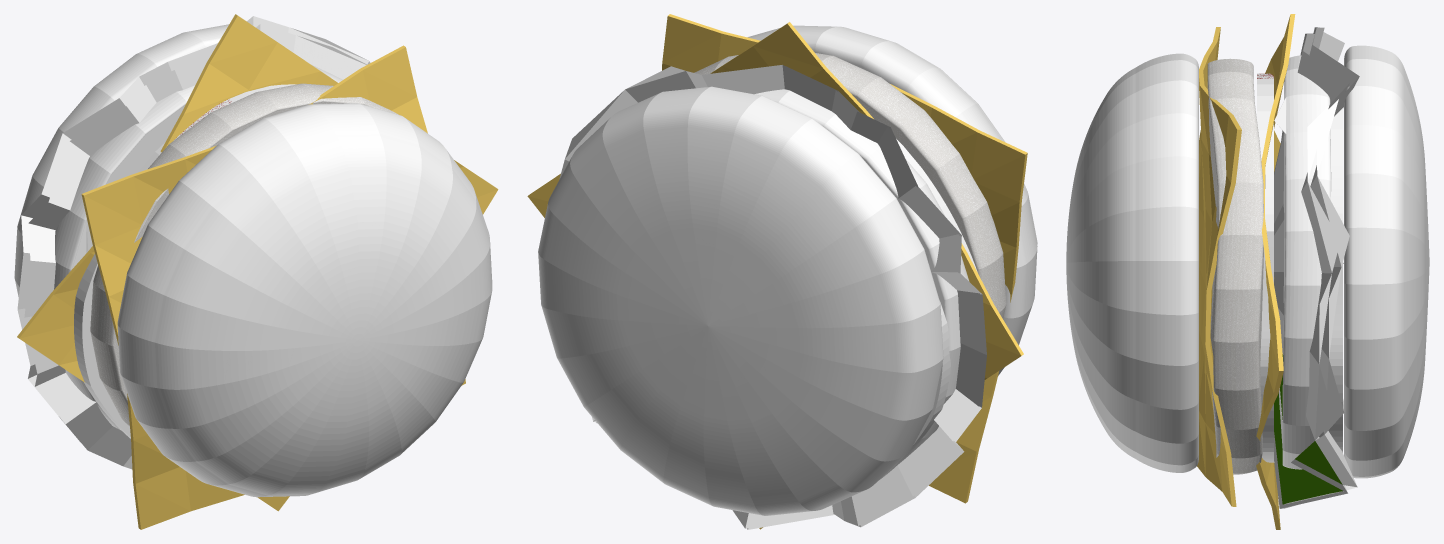
3 renders of one model, left to right at view 1: azimuth 30°, elevation 25°; view 2: azimuth 150°, elevation 25°; view 3: azimuth 270°, elevation 25°, orthographic. The views are drawn at different scales.
Parts seen in each view (by area): view 1: hamburger; view 2: hamburger; view 3: hamburger.
Part boxes in pixels (box(x1,y1,x2,y2)): hamburger: box(14, 14, 498, 529); hamburger: box(527, 14, 1037, 529); hamburger: box(1066, 14, 1429, 529).
Size of the model in its own units: 163 by 163 by 107.
